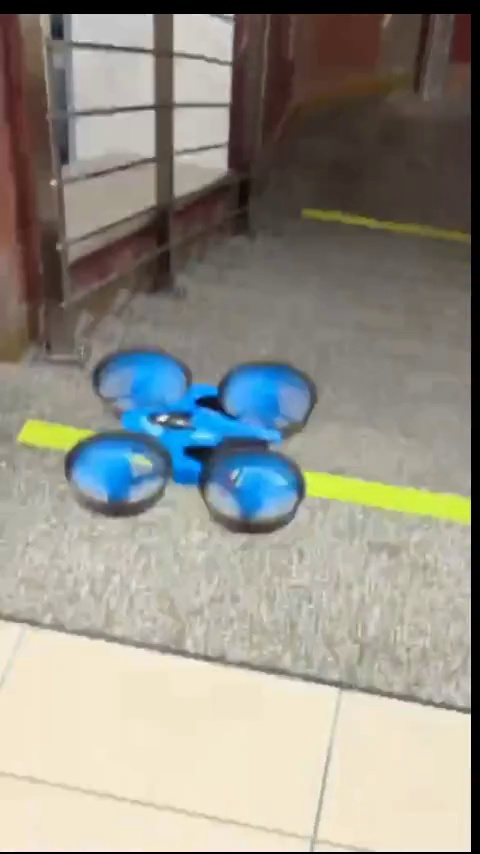drone: (68, 355, 321, 526)
